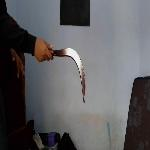Celurit: (45, 38, 91, 116)
